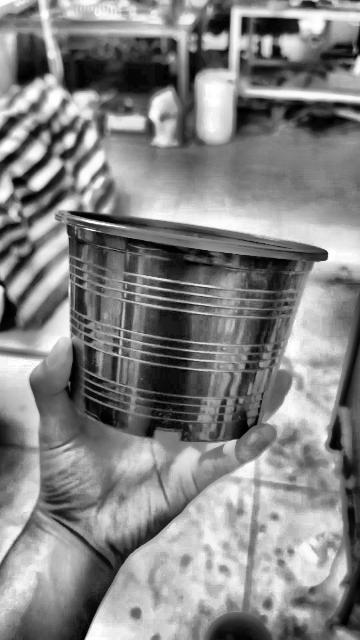pot: (57, 211, 327, 443)
